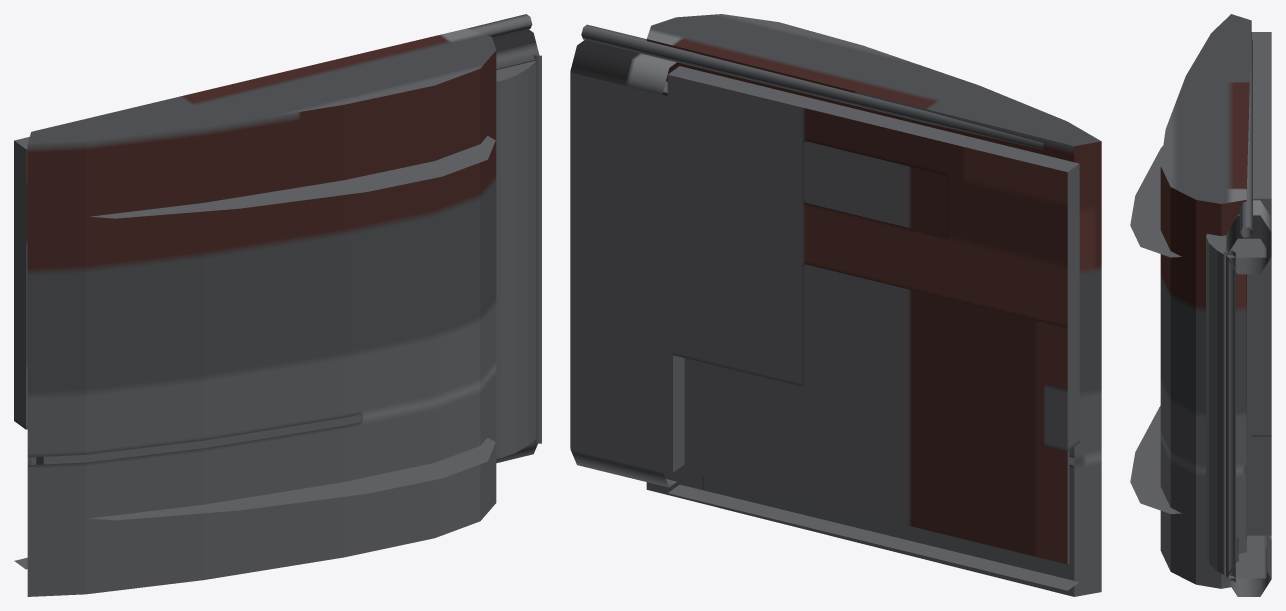
Rendered from section-0.obj.
The picture shows the model from 3 angles, left to right: view 1: azimuth 30°, elevation 25°; view 2: azimuth 150°, elevation 25°; view 3: azimuth 270°, elevation 25°; orthographic projection. The views are drawn at different scales.
Bounding box in the file's own units: 0.99 × 0.84 × 0.28.
